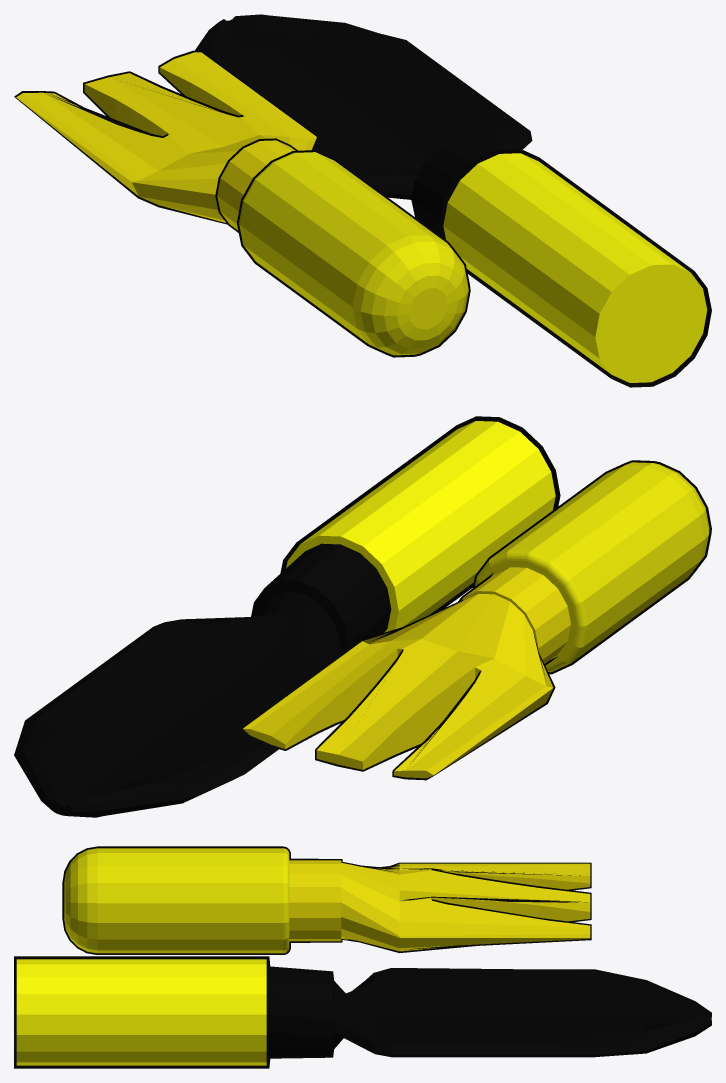
File: toolsHighlight.fbx
3 renders of one model, top to bottom at view 1: azimuth 30°, elevation 25°; view 2: azimuth 150°, elevation 25°; view 3: azimuth 270°, elevation 25°, orthographic. The views are drawn at different scales.
Parts seen in each view (by area): view 1: spoonhead, forkhandle; view 2: spoonhead, forkhandle; view 3: spoonhead, forkhandle.
Part boxes in pixels (x1,y1,x2,y2): spoonhead: (195, 14, 711, 387); forkhandle: (14, 50, 470, 357); spoonhead: (14, 416, 560, 817); forkhandle: (241, 460, 711, 780); spoonhead: (14, 956, 711, 1068); forkhandle: (62, 846, 591, 954).
Size of the model in its own units: 322 by 127 by 599.
